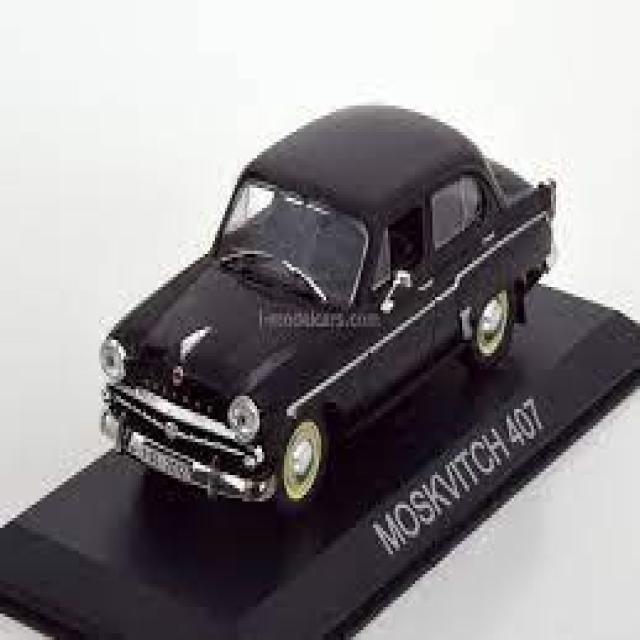Car: (96, 99, 556, 518)
